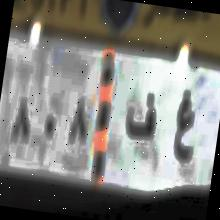0: (38, 106, 59, 153)
8: (63, 94, 94, 156), (9, 92, 36, 156)
faa: (120, 88, 162, 156)
ghayn: (165, 84, 202, 173)
